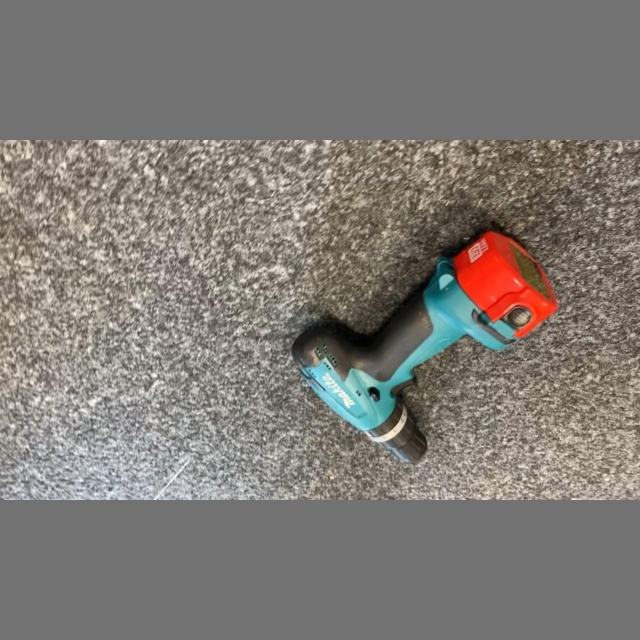drill: (284, 223, 566, 469)
